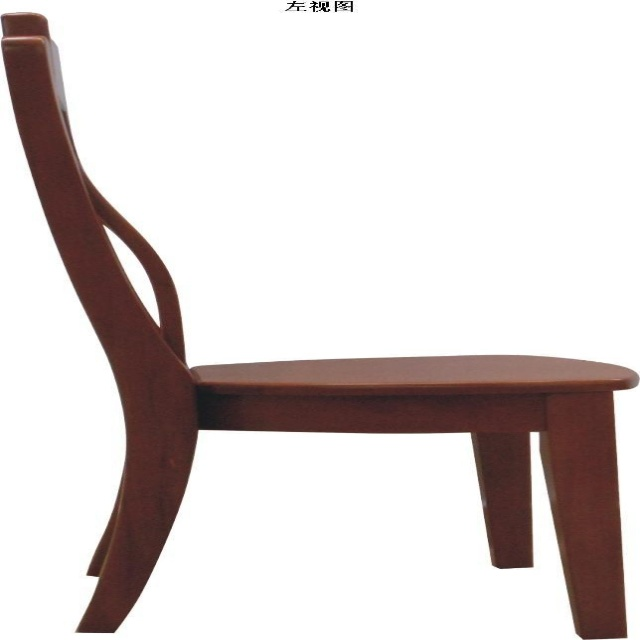obstacle: (3, 13, 635, 638)
